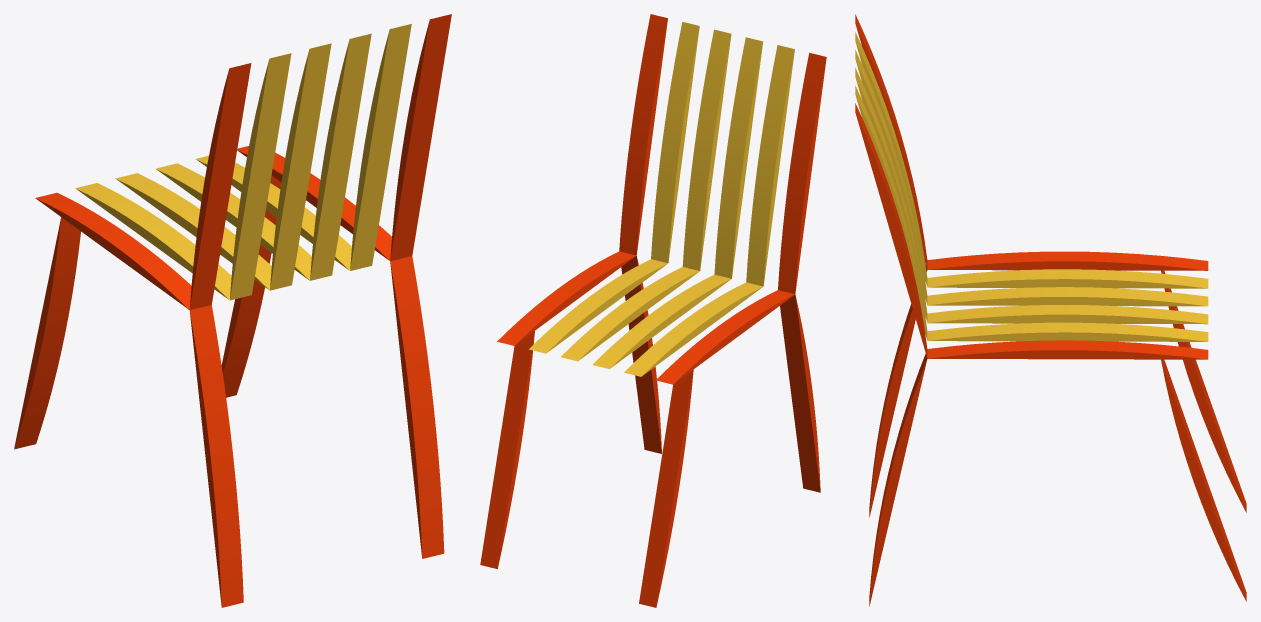
3 renders of one model, left to right at view 1: azimuth 30°, elevation 25°; view 2: azimuth 150°, elevation 25°; view 3: azimuth 270°, elevation 25°, orthographic. The views are drawn at different scales.
Parts seen in each view (by area): view 1: mesh15_mesh15-geometry, mesh17_mesh17-geometry, mesh11_mesh11-geometry, mesh5_mesh5-geometry, mesh3_mesh3-geometry, mesh7_mesh7-geometry, mesh9_mesh9-geometry, mesh1_mesh1-geometry, mesh19_mesh19-geometry, mesh23_mesh23-geometry, mesh27_mesh27-geometry, mesh13_mesh13-geometry (+4 smaller); view 2: mesh9_mesh9-geometry, mesh7_mesh7-geometry, mesh11_mesh11-geometry, mesh1_mesh1-geometry, mesh3_mesh3-geometry, mesh5_mesh5-geometry, mesh19_mesh19-geometry, mesh13_mesh13-geometry, mesh15_mesh15-geometry, mesh25_mesh25-geometry, mesh23_mesh23-geometry, mesh21_mesh21-geometry (+4 smaller); view 3: mesh21_mesh21-geometry, mesh31_mesh31-geometry, mesh25_mesh25-geometry, mesh27_mesh27-geometry, mesh23_mesh23-geometry, mesh29_mesh29-geometry, mesh13_mesh13-geometry, mesh3_mesh3-geometry, mesh17_mesh17-geometry, mesh15_mesh15-geometry, mesh19_mesh19-geometry, mesh7_mesh7-geometry (+4 smaller).
Part boxes in pixels (left/top/right/bottom): mesh15_mesh15-geometry: left=189, top=305, right=243, bottom=607; mesh17_mesh17-geometry: left=390, top=256, right=444, bottom=558; mesh11_mesh11-geometry: left=350, top=24, right=411, bottom=270; mesh5_mesh5-geometry: left=230, top=53, right=291, bottom=300; mesh3_mesh3-geometry: left=390, top=14, right=451, bottom=261; mesh7_mesh7-geometry: left=270, top=43, right=331, bottom=290; mesh9_mesh9-geometry: left=310, top=33, right=371, bottom=280; mesh1_mesh1-geometry: left=189, top=63, right=251, bottom=309; mesh19_mesh19-geometry: left=14, top=217, right=80, bottom=449; mesh23_mesh23-geometry: left=35, top=192, right=191, bottom=309; mesh27_mesh27-geometry: left=75, top=183, right=231, bottom=300; mesh13_mesh13-geometry: left=221, top=175, right=281, bottom=397; mesh9_mesh9-geometry: left=682, top=29, right=731, bottom=270; mesh7_mesh7-geometry: left=714, top=37, right=763, bottom=278; mesh11_mesh11-geometry: left=651, top=22, right=699, bottom=262; mesh1_mesh1-geometry: left=778, top=53, right=826, bottom=293; mesh3_mesh3-geometry: left=619, top=14, right=667, bottom=255; mesh5_mesh5-geometry: left=746, top=45, right=794, bottom=286; mesh19_mesh19-geometry: left=639, top=369, right=693, bottom=607; mesh13_mesh13-geometry: left=480, top=331, right=534, bottom=568; mesh15_mesh15-geometry: left=780, top=294, right=820, bottom=492; mesh25_mesh25-geometry: left=592, top=274, right=731, bottom=368; mesh23_mesh23-geometry: left=655, top=290, right=794, bottom=384; mesh21_mesh21-geometry: left=497, top=251, right=636, bottom=345; mesh21_mesh21-geometry: left=927, top=340, right=1208, bottom=359; mesh31_mesh31-geometry: left=927, top=322, right=1208, bottom=341; mesh25_mesh25-geometry: left=927, top=287, right=1208, bottom=306; mesh27_mesh27-geometry: left=927, top=269, right=1208, bottom=288; mesh23_mesh23-geometry: left=927, top=251, right=1208, bottom=270; mesh29_mesh29-geometry: left=927, top=305, right=1208, bottom=324; mesh13_mesh13-geometry: left=1161, top=359, right=1246, bottom=601; mesh3_mesh3-geometry: left=855, top=103, right=927, bottom=357; mesh17_mesh17-geometry: left=869, top=353, right=927, bottom=606; mesh15_mesh15-geometry: left=869, top=265, right=927, bottom=517; mesh19_mesh19-geometry: left=1161, top=270, right=1246, bottom=512; mesh7_mesh7-geometry: left=855, top=50, right=927, bottom=304.
Bounding box in the file's own units: 0.3282 × 0.7681 × 0.5498.
